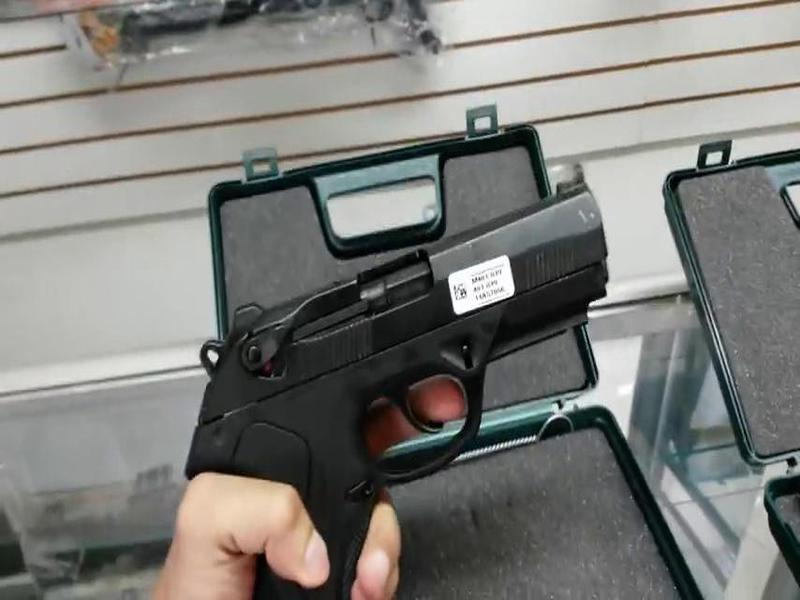Pistola: (176, 193, 611, 559)
